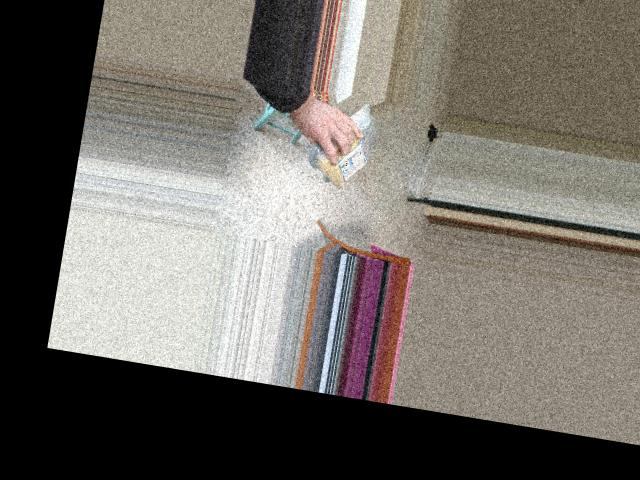cheese: (319, 97, 377, 202)
